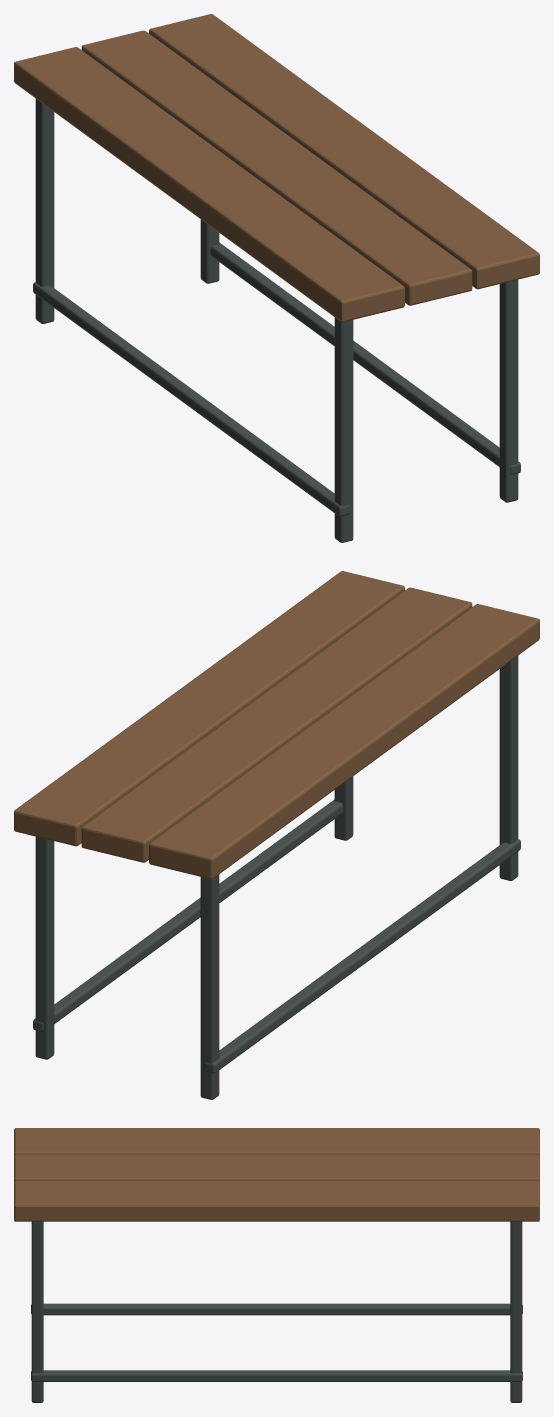
The model's file is shrine-table.fbx.
3 renders of one model, top to bottom at view 1: azimuth 30°, elevation 25°; view 2: azimuth 150°, elevation 25°; view 3: azimuth 270°, elevation 25°, orthographic. The views are drawn at different scales.
Visible parts, largest first — view 1: Oak seat slat.003, Oak seat slat.004, Oak seat slat.005, Lower stretcher.002, Lower stretcher.003, Iron leg.005, Iron leg.004, Iron leg.006, Iron leg.007; view 2: Oak seat slat.003, Oak seat slat.004, Oak seat slat.005, Lower stretcher.002, Lower stretcher.003, Iron leg.007, Iron leg.006, Iron leg.004, Iron leg.005; view 3: Oak seat slat.005, Oak seat slat.003, Oak seat slat.004, Lower stretcher.002, Lower stretcher.003, Iron leg.005, Iron leg.007.
Boxes of the visible parts, x1,y1,x2,y2 form: Oak seat slat.003: [14, 47, 404, 322]; Oak seat slat.004: [81, 30, 472, 305]; Oak seat slat.005: [149, 14, 539, 289]; Lower stretcher.002: [33, 282, 349, 516]; Lower stretcher.003: [210, 242, 520, 474]; Iron leg.005: [499, 279, 518, 502]; Iron leg.004: [334, 317, 353, 542]; Iron leg.006: [35, 98, 54, 323]; Iron leg.007: [200, 219, 219, 283]; Oak seat slat.003: [149, 604, 539, 879]; Oak seat slat.004: [81, 587, 472, 862]; Oak seat slat.005: [14, 571, 404, 846]; Lower stretcher.002: [204, 839, 520, 1073]; Lower stretcher.003: [33, 799, 343, 1031]; Iron leg.007: [35, 836, 54, 1059]; Iron leg.006: [200, 874, 219, 1099]; Iron leg.004: [499, 655, 518, 880]; Iron leg.005: [334, 776, 353, 840]; Oak seat slat.005: [14, 1181, 539, 1221]; Oak seat slat.003: [14, 1128, 539, 1155]; Oak seat slat.004: [14, 1154, 539, 1181]; Lower stretcher.002: [31, 1303, 522, 1315]; Lower stretcher.003: [31, 1370, 522, 1381]; Iron leg.005: [31, 1221, 43, 1402]; Iron leg.007: [510, 1221, 522, 1402].
Bounding box in the file's own units: 0.7 × 0.85 × 2.
